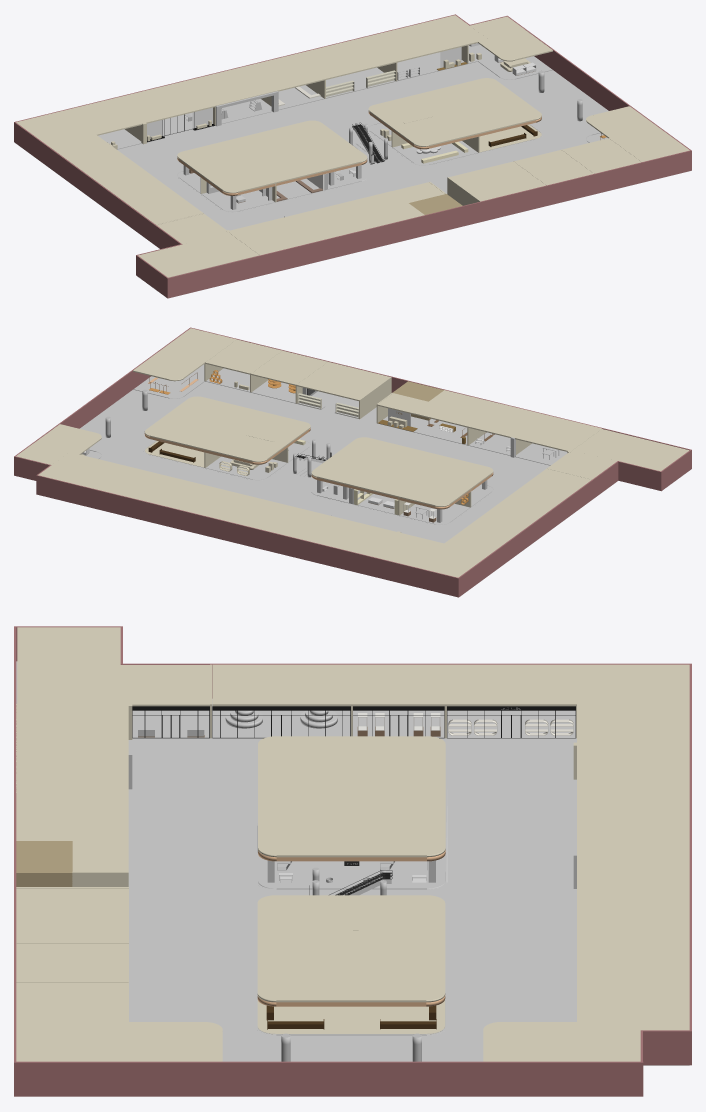
The model's file is mall_collision.dae.
3 views of the same model, one above another, from view 1: azimuth 30°, elevation 25°; view 2: azimuth 150°, elevation 25°; view 3: azimuth 270°, elevation 25° (orthographic). The views are drawn at different scales.
Parts seen in each view (by area): view 1: doorwayShop4_roof_002, doorwayShop4_roof_047, doorwayShop4_roof_035, doorwayShop4_roof_003, doorwayShop4_roof_039, doorwayShop4_roof_015, doorwayShop4_roof_001, doorwayShop4_roof_012, doorwayShop4_roof_030, doorwayShop4_roof_041, doorwayShop4_roof_038, doorwayShop4_roof_043; view 2: doorwayShop4_roof_002, doorwayShop4_roof_047, doorwayShop4_roof_035, doorwayShop4_roof_003, doorwayShop4_roof_015, doorwayShop4_roof_030, doorwayShop4_roof_001, doorwayShop4_roof_038, doorwayShop4_roof_012, doorwayShop4_roof_041; view 3: doorwayShop4_roof_002, doorwayShop4_roof_047, doorwayShop4_roof_035, doorwayShop4_roof_001, doorwayShop4_roof_031, doorwayShop4_roof_030, doorwayShop4_roof_003, doorwayShop4_roof_041, doorwayShop4_roof_011, doorwayShop4_roof_007, doorwayShop4_roof_038.
Boxes of the visible parts, x1=… form: doorwayShop4_roof_002: x1=16, y1=15, x2=689, y2=277; doorwayShop4_roof_047: x1=15, y1=45, x2=691, y2=297; doorwayShop4_roof_035: x1=14, y1=14, x2=691, y2=298; doorwayShop4_roof_003: x1=177, y1=111, x2=541, y2=195; doorwayShop4_roof_039: x1=147, y1=47, x2=461, y2=138; doorwayShop4_roof_015: x1=117, y1=61, x2=600, y2=212; doorwayShop4_roof_001: x1=183, y1=165, x2=367, y2=209; doorwayShop4_roof_012: x1=326, y1=70, x2=395, y2=98; doorwayShop4_roof_030: x1=409, y1=194, x2=462, y2=214; doorwayShop4_roof_041: x1=176, y1=122, x2=543, y2=212; doorwayShop4_roof_038: x1=349, y1=71, x2=582, y2=163; doorwayShop4_roof_043: x1=215, y1=91, x2=278, y2=126; doorwayShop4_roof_002: x1=16, y1=328, x2=689, y2=577; doorwayShop4_roof_047: x1=80, y1=364, x2=689, y2=582; doorwayShop4_roof_035: x1=14, y1=327, x2=691, y2=597; doorwayShop4_roof_003: x1=144, y1=428, x2=493, y2=509; doorwayShop4_roof_015: x1=90, y1=381, x2=550, y2=524; doorwayShop4_roof_030: x1=393, y1=381, x2=443, y2=420; doorwayShop4_roof_001: x1=311, y1=480, x2=487, y2=522; doorwayShop4_roof_038: x1=105, y1=389, x2=330, y2=477; doorwayShop4_roof_012: x1=297, y1=393, x2=358, y2=418; doorwayShop4_roof_041: x1=143, y1=439, x2=494, y2=525; doorwayShop4_roof_002: x1=16, y1=627, x2=689, y2=1061; doorwayShop4_roof_047: x1=16, y1=661, x2=689, y2=1065; doorwayShop4_roof_035: x1=14, y1=626, x2=691, y2=1096; doorwayShop4_roof_001: x1=258, y1=854, x2=445, y2=889; doorwayShop4_roof_031: x1=132, y1=706, x2=575, y2=895; doorwayShop4_roof_030: x1=16, y1=841, x2=72, y2=886; doorwayShop4_roof_003: x1=257, y1=850, x2=445, y2=1006; doorwayShop4_roof_041: x1=256, y1=774, x2=447, y2=1035; doorwayShop4_roof_011: x1=448, y1=719, x2=573, y2=735; doorwayShop4_roof_007: x1=266, y1=1005, x2=436, y2=1029; doorwayShop4_roof_038: x1=281, y1=867, x2=421, y2=1061.
Size of the model in its own units: 110 by 72.24 by 4.49.
